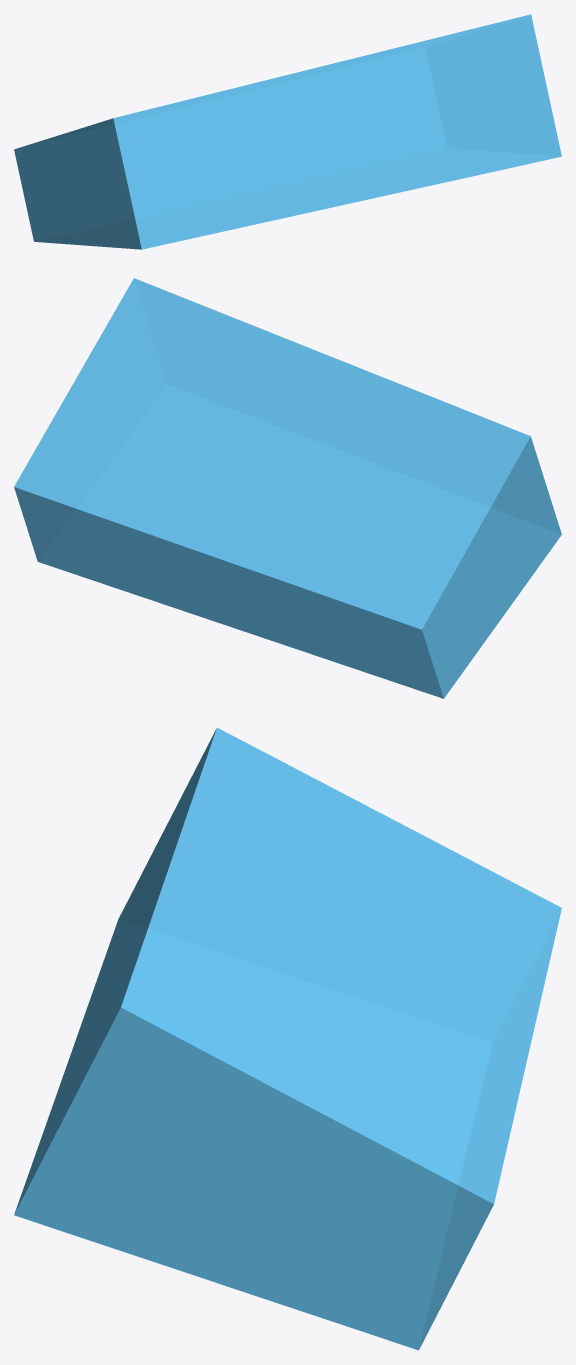
File: Event_420107950_HErechit_73.fbx
3 views of the same model, one above another, from view 1: azimuth 30°, elevation 25°; view 2: azimuth 150°, elevation 25°; view 3: azimuth 270°, elevation 25° (orthographic). The views are drawn at different scales.
Parts seen in each view (by area): view 1: Model; view 2: Model; view 3: Model.
Boxes of the visible parts, x1=… form: Model: x1=14, y1=14, x2=561, y2=249; Model: x1=14, y1=278, x2=561, y2=698; Model: x1=14, y1=727, x2=561, y2=1350.
Bounding box in the file's own units: 0.9218 × 0.4735 × 0.6431.
